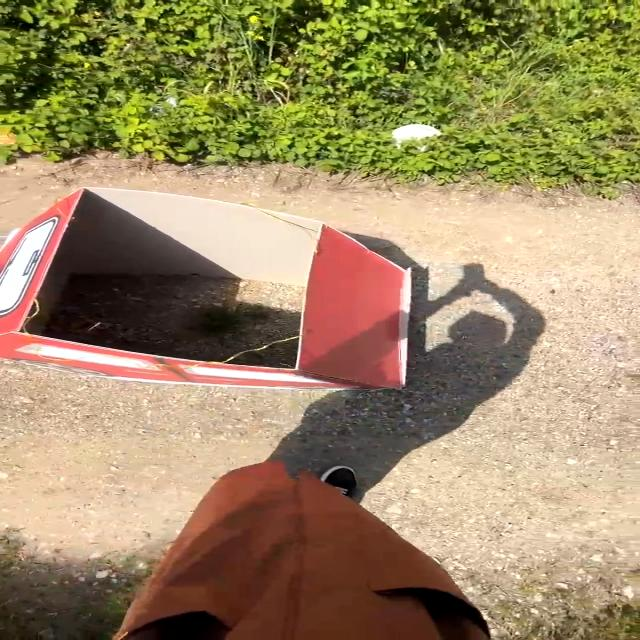red_car: (0, 151, 468, 418)
